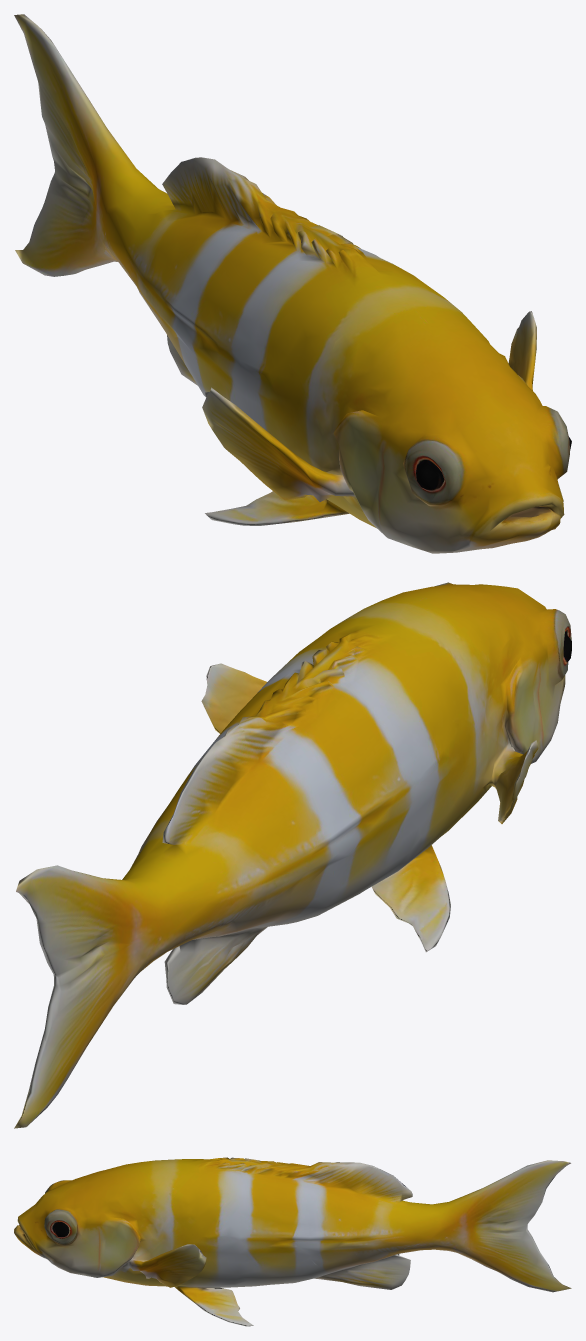
Rendered from fish-gold.glb.
The picture shows the model from 3 angles, top to bottom: view 1: azimuth 30°, elevation 25°; view 2: azimuth 150°, elevation 25°; view 3: azimuth 270°, elevation 25°; orthographic projection. The views are drawn at different scales.
Visible parts, largest first — view 1: tripo_node_a3ec3cef-db79-4783-90a7-471fa3cfd579; view 2: tripo_node_a3ec3cef-db79-4783-90a7-471fa3cfd579; view 3: tripo_node_a3ec3cef-db79-4783-90a7-471fa3cfd579.
Boxes of the visible parts, <box> form: tripo_node_a3ec3cef-db79-4783-90a7-471fa3cfd579: <box>14,14,571,553</box>; tripo_node_a3ec3cef-db79-4783-90a7-471fa3cfd579: <box>14,582,571,1128</box>; tripo_node_a3ec3cef-db79-4783-90a7-471fa3cfd579: <box>14,1157,571,1326</box>.
Bounding box in the file's own units: 0.3528 × 0.2753 × 1.
1 material, 1 textured.
